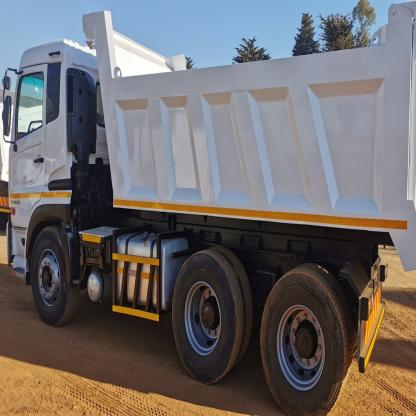dump_truck: (5, 6, 414, 416)
